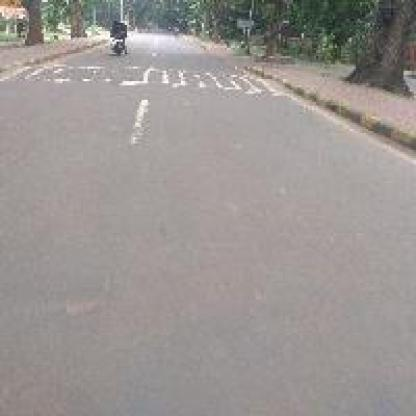Speed Bump: (0, 58, 285, 98)
